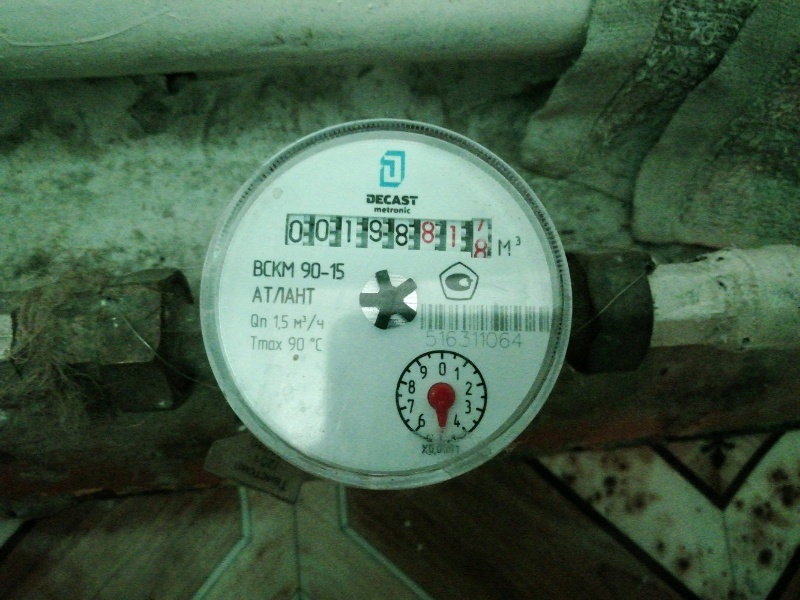dial: (284, 218, 491, 256)
